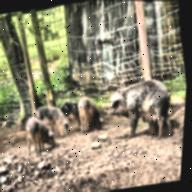boar: (101, 69, 179, 147), (71, 92, 112, 138), (31, 101, 76, 140), (18, 115, 62, 154)
